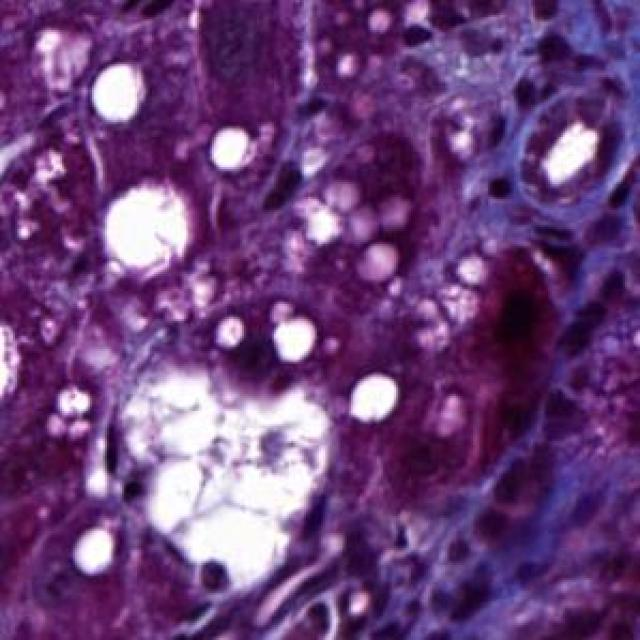ballooning: (111, 302, 342, 608)
